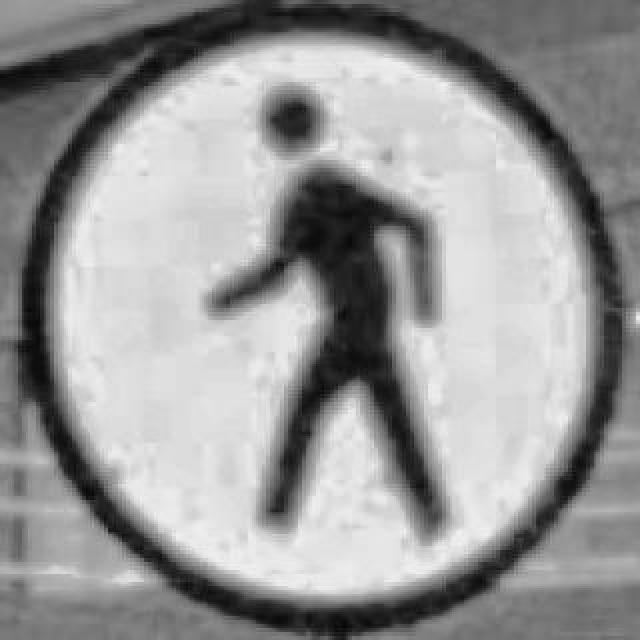pedestrian crossing: (26, 0, 622, 636)
